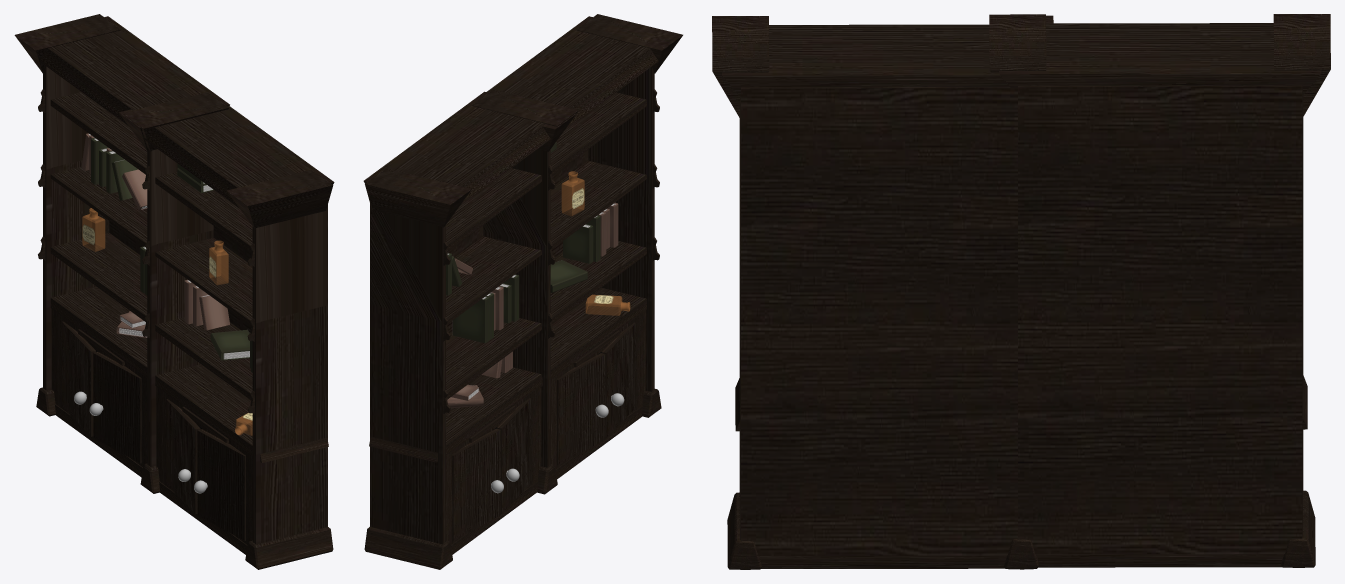
Rendered from medicine_shelf.glb.
The picture shows the model from 3 angles, left to right: view 1: azimuth 30°, elevation 25°; view 2: azimuth 150°, elevation 25°; view 3: azimuth 270°, elevation 25°; orthographic projection. The views are drawn at different scales.
Parts seen in each view (by area): view 1: polySurface75, polySurface57, polySurface86, polySurface47, polySurface46, polySurface85, polySurface51, polySurface80, polySurface60, polySurface88, polySurface102, polySurface56 (+27 smaller); view 2: polySurface47, polySurface57, polySurface75, polySurface86, polySurface76, polySurface50, polySurface79, polySurface56, polySurface85, polySurface88, polySurface63, polySurface59 (+25 smaller); view 3: polySurface72, polySurface101, polySurface57, polySurface86, polySurface63, polySurface102, polySurface45, polySurface74, polySurface73, polySurface91, polySurface61, polySurface47 (+2 smaller).
Part boxes in pixels (<box>): polySurface75: <box>252,207,327,544</box>; polySurface57: <box>39,16,229,125</box>; polySurface86: <box>143,106,334,207</box>; polySurface47: <box>43,66,109,390</box>; polySurface46: <box>151,149,213,466</box>; polySurface85: <box>155,364,328,462</box>; polySurface51: <box>93,351,141,463</box>; polySurface80: <box>197,429,245,540</box>; polySurface60: <box>50,233,147,321</box>; polySurface88: <box>155,238,252,325</box>; polySurface102: <box>227,169,333,228</box>; polySurface56: <box>50,286,147,377</box>; polySurface47: <box>370,206,445,544</box>; polySurface57: <box>363,91,550,206</box>; polySurface75: <box>588,66,654,391</box>; polySurface86: <box>486,16,658,130</box>; polySurface76: <box>483,149,550,467</box>; polySurface50: <box>452,428,500,540</box>; polySurface79: <box>557,353,605,465</box>; polySurface56: <box>369,367,541,462</box>; polySurface85: <box>539,287,646,386</box>; polySurface88: <box>550,160,646,248</box>; polySurface63: <box>365,168,471,227</box>; polySurface59: <box>446,236,541,324</box>; polySurface72: <box>1018,85,1302,554</box>; polySurface101: <box>741,87,1017,555</box>; polySurface57: <box>999,23,1321,94</box>; polySurface86: <box>722,24,1009,96</box>; polySurface63: <box>1273,14,1330,116</box>; polySurface102: <box>712,16,769,117</box>; polySurface45: <box>1036,554,1283,567</box>; polySurface74: <box>759,555,1006,568</box>; polySurface73: <box>989,14,1046,72</box>; polySurface91: <box>727,492,761,569</box>; polySurface61: <box>1281,490,1315,567</box>; polySurface47: <box>1302,94,1303,537</box>.
Bounding box in the file's own units: 0.4986 × 1.92 × 2.16.
Materials: 6 (4 with a texture image).
